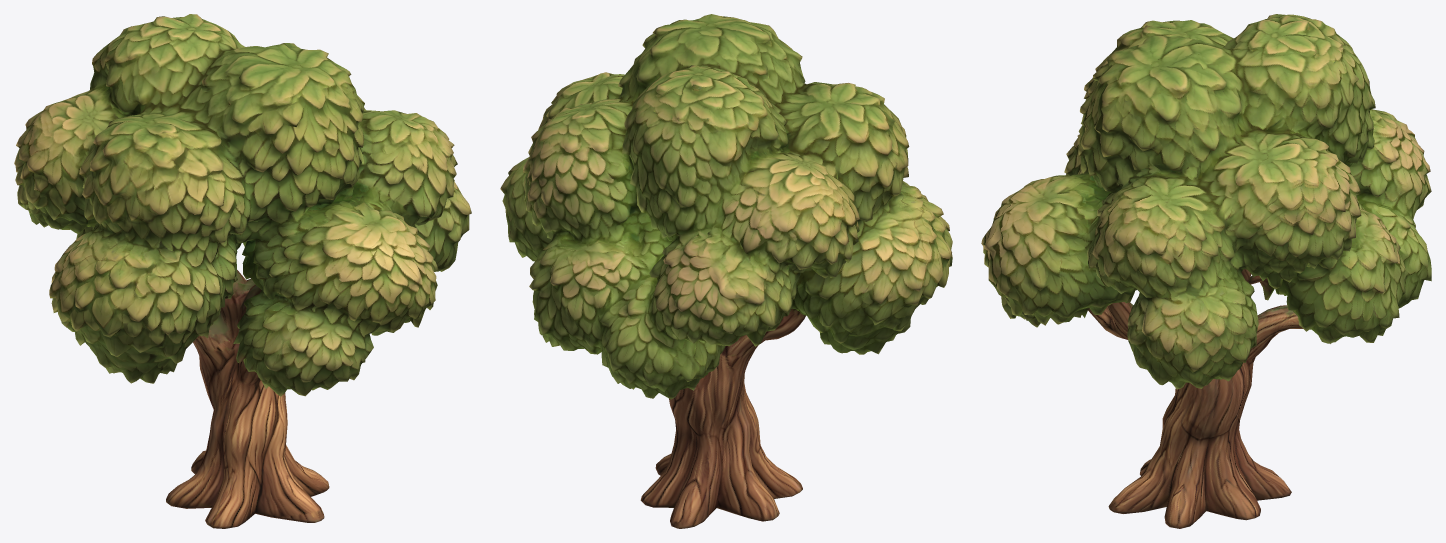
File: RoundTree.fbx
3 renders of one model, left to right at view 1: azimuth 30°, elevation 25°; view 2: azimuth 150°, elevation 25°; view 3: azimuth 270°, elevation 25°, orthographic.
Visible parts, largest first — view 1: Mesh_0; view 2: Mesh_0; view 3: Mesh_0.
Boxes of the visible parts, bbox=[...] form: Mesh_0: bbox=[14, 14, 471, 528]; Mesh_0: bbox=[500, 14, 952, 528]; Mesh_0: bbox=[981, 14, 1431, 528].
Size of the model in its own units: 182 by 191 by 170.
1 material, 1 textured.
